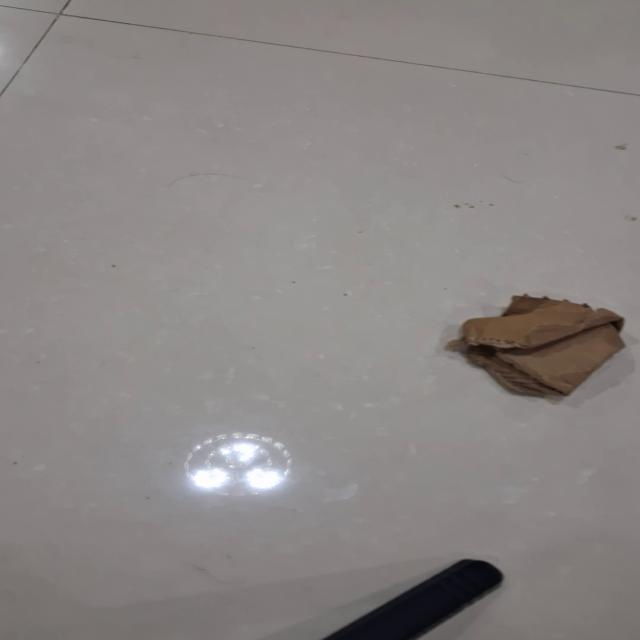paper: (447, 292, 626, 398)
